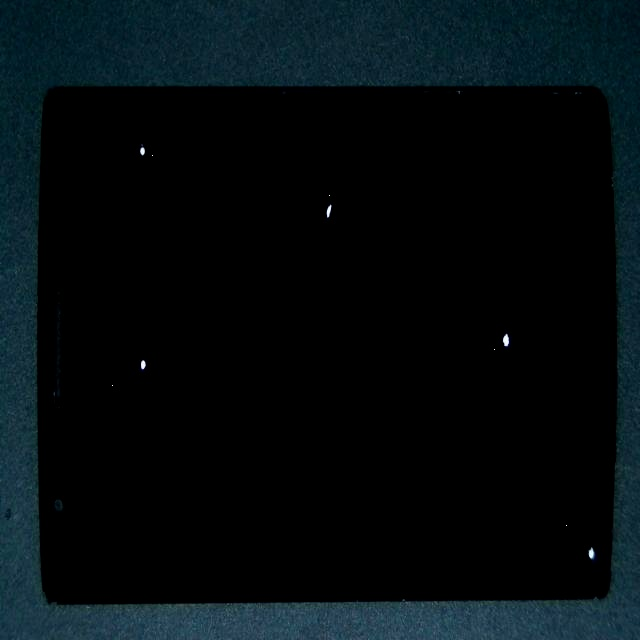stain: (305, 245, 640, 640), (244, 159, 640, 478), (170, 66, 479, 293), (91, 143, 203, 528), (14, 74, 201, 238)
